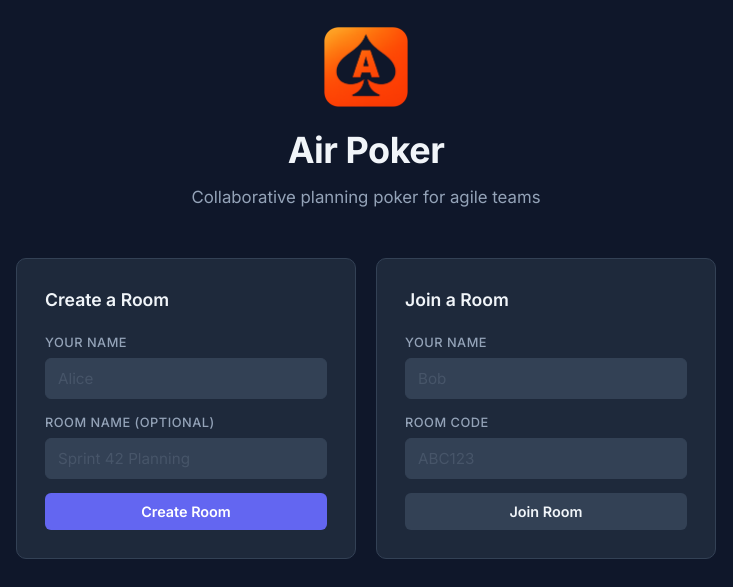
Test: Home Page › should show error when creating room without name
Click the button "Create Room" at (186, 512), box [45,494,327,530]
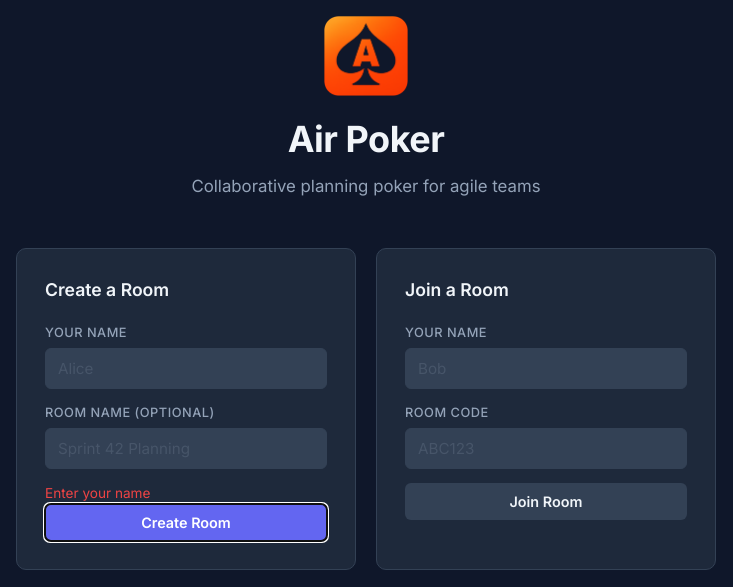
Check: the text "Enter your name" is shown, box [45,485,150,501]
